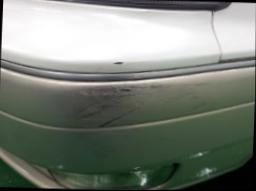Bumper: (52, 51, 226, 152)
